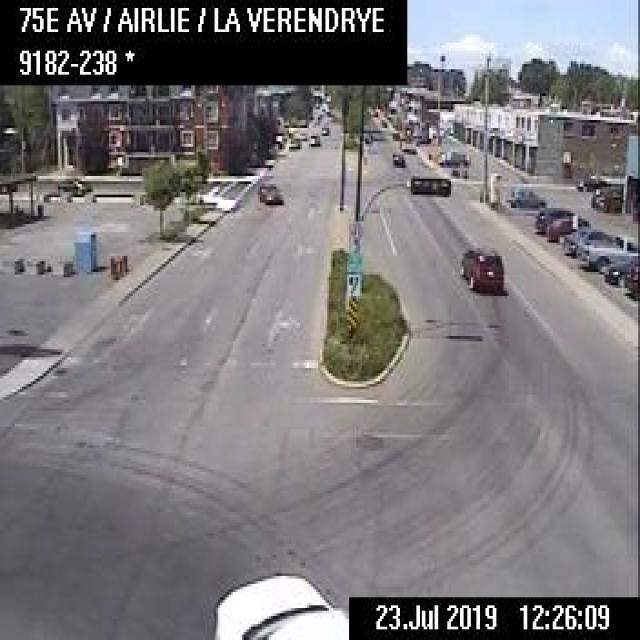construction: (113, 256, 119, 278), (108, 253, 114, 272), (121, 252, 127, 270), (118, 256, 123, 276)
vehicle: (209, 571, 346, 637), (456, 243, 504, 291), (578, 232, 636, 266), (560, 223, 609, 256), (534, 206, 585, 234), (546, 213, 589, 242), (601, 253, 638, 283), (505, 183, 546, 210), (576, 168, 613, 189), (258, 178, 281, 204), (440, 148, 470, 164), (623, 261, 637, 295), (400, 140, 416, 154), (390, 151, 403, 166), (288, 134, 300, 148), (318, 122, 329, 134), (309, 132, 318, 144)
